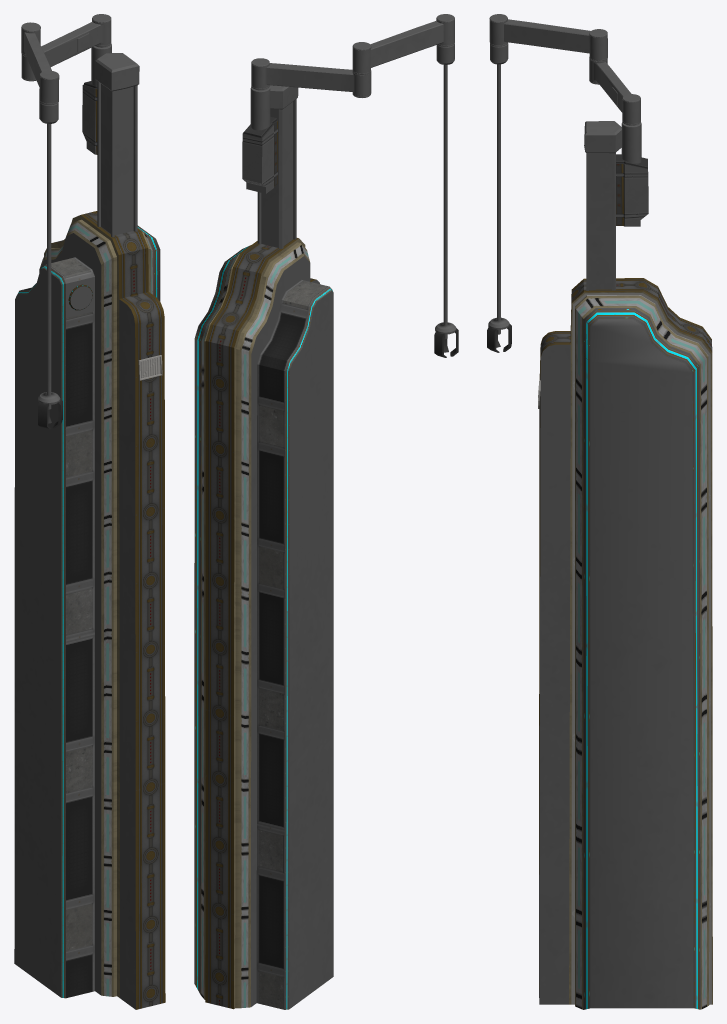
The model's file is the claw.obj.
3 renders of one model, left to right at view 1: azimuth 30°, elevation 25°; view 2: azimuth 150°, elevation 25°; view 3: azimuth 270°, elevation 25°, orthographic. The views are drawn at different scales.
Parts seen in each view (by area): view 1: the_claw corroridor_4; view 2: the_claw corroridor_4; view 3: the_claw corroridor_4.
Boxes of the visible parts, bbox=[...] form: the_claw corroridor_4: bbox=[14, 14, 165, 1009]; the_claw corroridor_4: bbox=[194, 14, 458, 1009]; the_claw corroridor_4: bbox=[487, 14, 712, 1009].
Bounding box in the file's own units: 7.72 × 41.95 × 9.28.
1 material, 1 textured.
